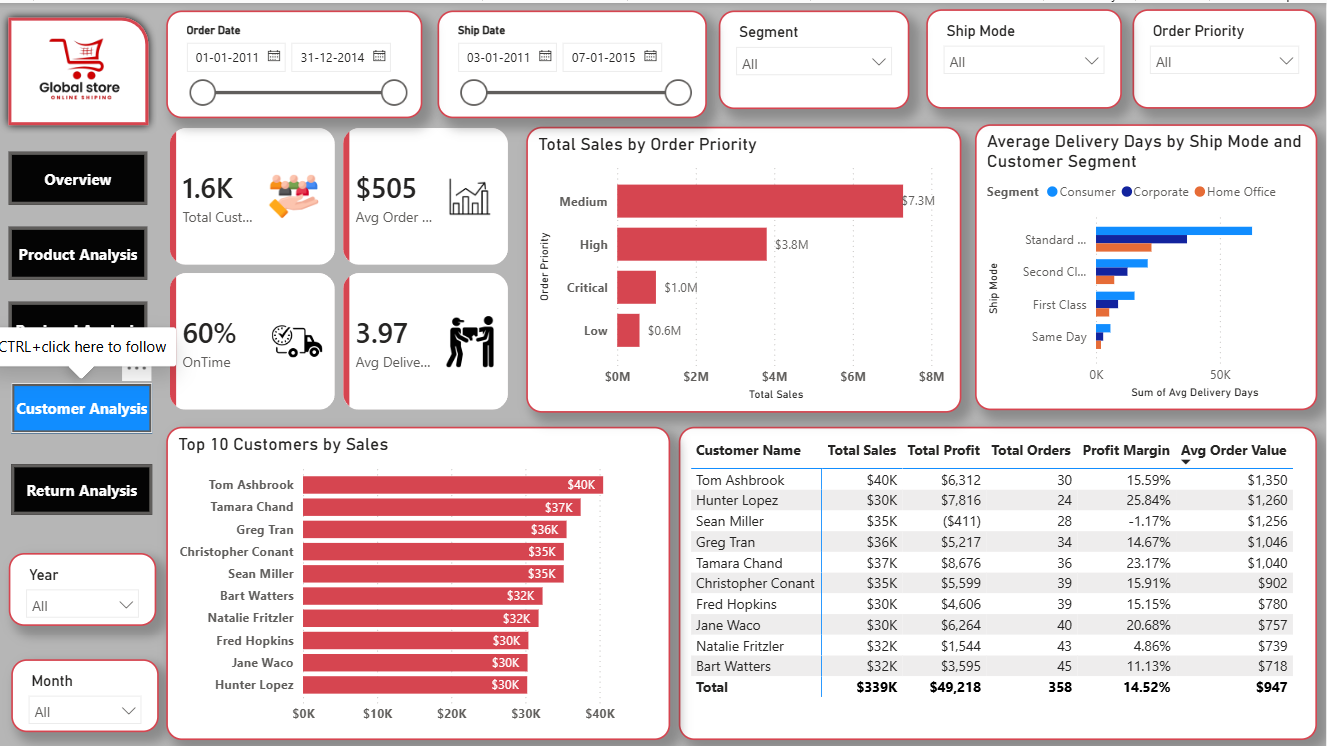

The dashboard page shown, as its layout file describes it:
{"tool":"powerbi","page":{"name":"Customer Analysis","canvas":[1280,720],"ordinal":3},"visuals":[{"type":"actionButton","box":[8.8,216.2,133.8,51.2],"z":0},{"type":"actionButton","box":[8.8,288.8,133.8,53.8],"z":1000},{"type":"actionButton","box":[11.2,366.2,136.2,48.8],"z":2000},{"type":"actionButton","box":[8.8,143.8,133.8,51.2],"z":3000},{"type":"shape","box":[0,6.2,151.2,120],"z":4000},{"type":"image","box":[11.2,15,131.2,100],"z":5000},{"type":"slicer","fields":{"Values":["Orders.Order Date.Variation.Date Hierarchy.Year"]},"box":[8.8,531.2,142.5,70],"z":6000},{"type":"slicer","fields":{"Values":["Orders.Order Date.Variation.Date Hierarchy.Month"]},"box":[11.2,633.8,142.5,70],"z":7000},{"type":"actionButton","box":[11.2,445,136.2,48.8],"z":8000},{"type":"pivotTable","fields":{"Rows":["Orders.Customer Name"],"Values":["Orders.Total Sales","Orders.Total Profit","Orders.Total Orders","Orders.Profit Margin","Orders.Avg Order Value"]},"box":[655,408.8,616.2,302.5],"z":9000},{"type":"clusteredBarChart","title":"Top 10 Customers by Sales","fields":{"Category":["Orders.Customer Name"],"Y":["Orders.Total Sales"]},"box":[160,408.8,486.2,302.5],"z":10000},{"type":"cardVisual","fields":{"Data":["Orders.Total Customers","Orders.Avg Order Value","Orders.OnTime %","Orders.Avg Delivery Time"]},"box":[147.5,103.8,360,306.2],"z":11000},{"type":"clusteredBarChart","fields":{"Category":["Orders.Order Priority"],"Y":["Orders.Total Sales"]},"box":[507.5,120,420,276.2],"z":12000},{"type":"clusteredBarChart","title":"Average Delivery Days by Ship Mode and Customer Segment","fields":{"Category":["Orders.Ship Mode"],"Y":["Sum(Orders.Avg Delivery Days)"],"Series":["Orders.Segment"]},"box":[941.2,117.5,330,276.2],"z":13000},{"type":"slicer","fields":{"Values":["Orders.Order Priority"]},"box":[1092.5,6.2,177.5,96.2],"z":14000},{"type":"slicer","fields":{"Values":["Orders.Ship Mode"]},"box":[893.8,6.2,188.8,96.2],"z":15000},{"type":"slicer","fields":{"Values":["Orders.Segment"]},"box":[693.8,7.5,183.8,95],"z":16000},{"type":"slicer","fields":{"Values":["Orders.Ship Date"]},"box":[422.5,7.5,260,103.8],"z":17000},{"type":"slicer","fields":{"Values":["Orders.Order Date.Variation.Date Hierarchy.Month"]},"box":[160,7.5,247.5,103.8],"z":18000}]}

Visuals, with their boxes in screenshot pixels (x1, y1, x2, y2), scaled from the page's 1280x720 canvas onto the 1327x746 screenshot:
actionButton: box(9, 224, 148, 277)
actionButton: box(9, 299, 148, 355)
actionButton: box(12, 379, 153, 430)
actionButton: box(9, 149, 148, 202)
shape: box(0, 6, 157, 131)
image: box(12, 16, 148, 119)
slicer - Orders.Order Date.Variation.Date Hierarchy.Year: box(9, 550, 157, 623)
slicer - Orders.Order Date.Variation.Date Hierarchy.Month: box(12, 657, 159, 729)
actionButton: box(12, 461, 153, 512)
pivotTable - Orders.Customer Name x Orders.Total Sales: box(679, 424, 1318, 737)
"Top 10 Customers by Sales" clusteredBarChart: box(166, 424, 670, 737)
cardVisual - Orders.Total Customers x Orders.Avg Order Value: box(153, 108, 526, 425)
clusteredBarChart - Orders.Order Priority x Orders.Total Sales: box(526, 124, 962, 411)
"Average Delivery Days by Ship Mode and Customer Segment" clusteredBarChart: box(976, 122, 1318, 408)
slicer - Orders.Order Priority: box(1133, 6, 1317, 106)
slicer - Orders.Ship Mode: box(927, 6, 1122, 106)
slicer - Orders.Segment: box(719, 8, 910, 106)
slicer - Orders.Ship Date: box(438, 8, 708, 115)
slicer - Orders.Order Date.Variation.Date Hierarchy.Month: box(166, 8, 422, 115)
